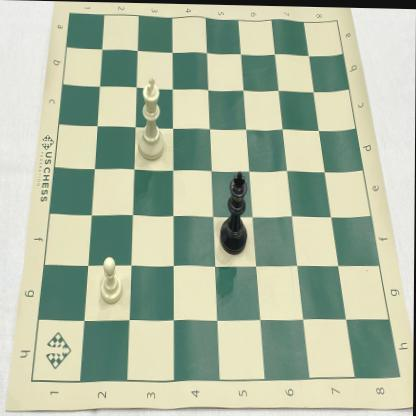black-king: (218, 165, 252, 257)
white-king: (136, 74, 166, 162)
white-pawn: (98, 254, 124, 307)
